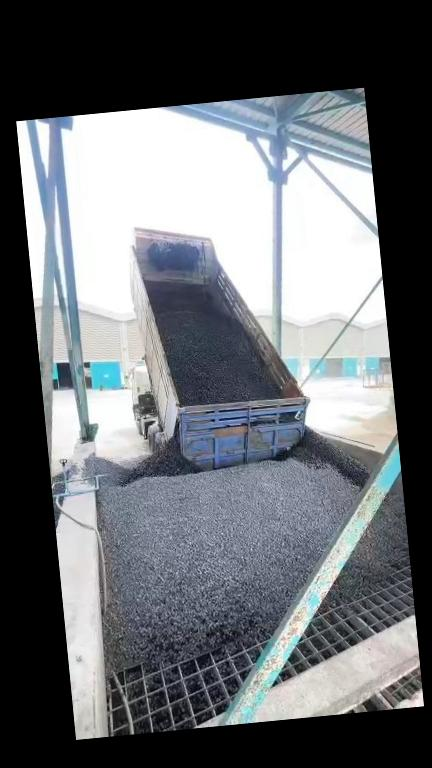gravel: (80, 430, 368, 670), (155, 294, 280, 405), (329, 492, 407, 601)
sand: (327, 405, 397, 450)
